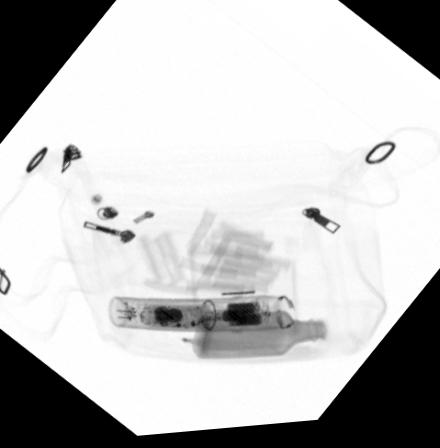Baton: (106, 296, 297, 337)
